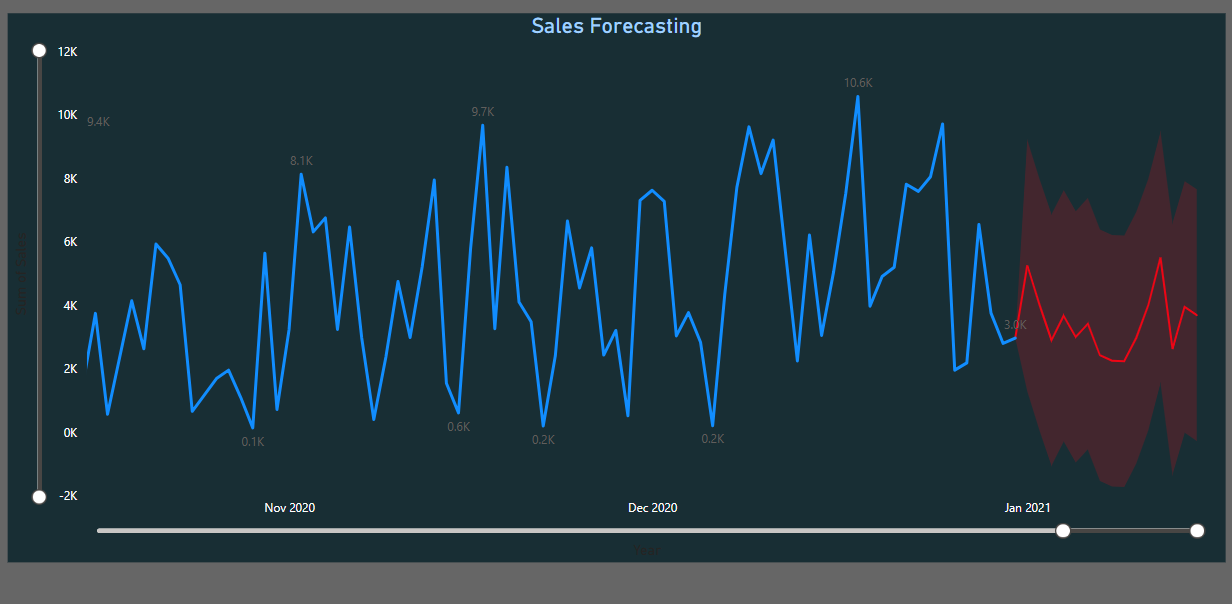

What the dashboard file says about the page in this screenshot:
{"tool":"powerbi","page":{"name":"Page 2","canvas":[1280,720],"ordinal":1},"visuals":[{"type":"lineChart","title":"Sales Forecasting","fields":{"Y":["Sum(SuperStore_Sales_Dataset.Sales)"],"Category":["SuperStore_Sales_Dataset.Order Date.Variation.Date Hierarchy.Year","SuperStore_Sales_Dataset.Order Date.Variation.Date Hierarchy.Quarter","SuperStore_Sales_Dataset.Order Date.Variation.Date Hierarchy.Month","SuperStore_Sales_Dataset.Order Date.Variation.Date Hierarchy.Day"]},"box":[16.7,40.5,1224.7,552.4],"z":0}]}

Visuals, with their boxes on the page's 1280x720 design canvas (x1, y1, x2, y2). These are canvas units, not pixel positions in the 1232x604 screenshot, which may show the page scaled, cropped or inside an application window:
"Sales Forecasting" lineChart: 17:40:1241:593
